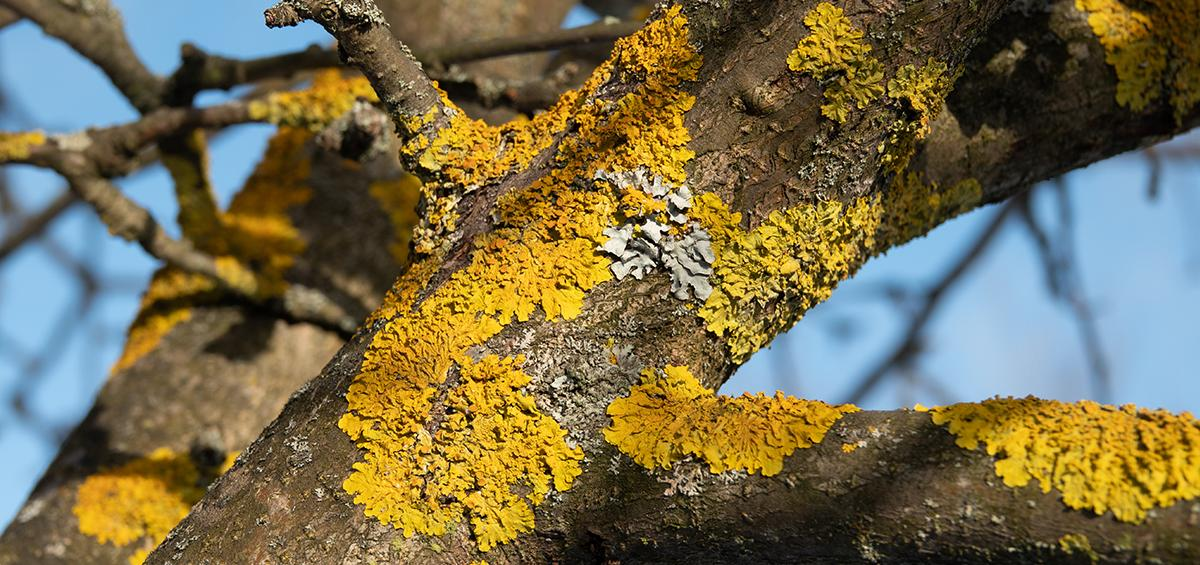lichen: (338, 175, 616, 441), (344, 356, 582, 550), (930, 396, 1199, 522), (693, 194, 883, 362), (604, 365, 858, 475), (553, 8, 701, 182), (593, 167, 715, 298), (1075, 0, 1199, 124), (402, 90, 549, 194), (788, 3, 882, 122), (876, 173, 980, 254), (884, 57, 954, 168), (414, 183, 457, 252)
